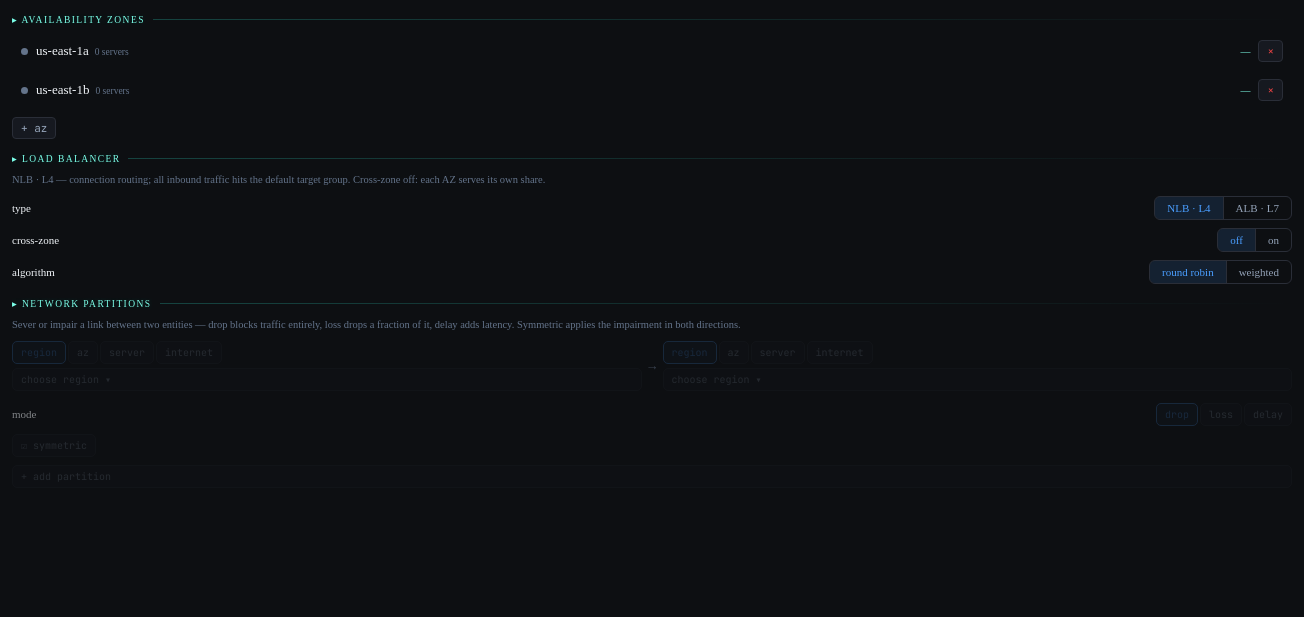
Test case: RegionConfigTab › defaults to L4 with no listener-rules editor; switching to L7 reveals it and sets mode
The width and height of the screenshot is (1304, 617).
expect the text "▸ LISTENER RULES" is not shown: met
Click the button "ALB · L7". click: [1257, 208]
box: [1224,197,1291,219]
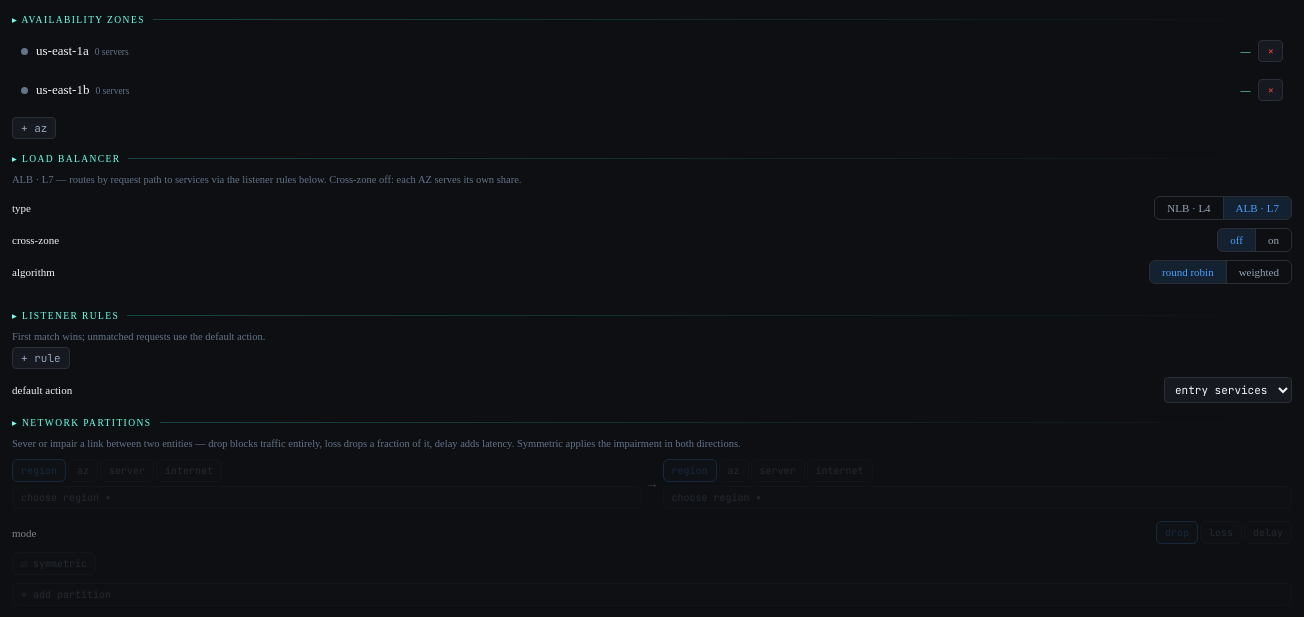
expect the text "▸ LISTENER RULES" is shown: met, box [12,310,119,321]
